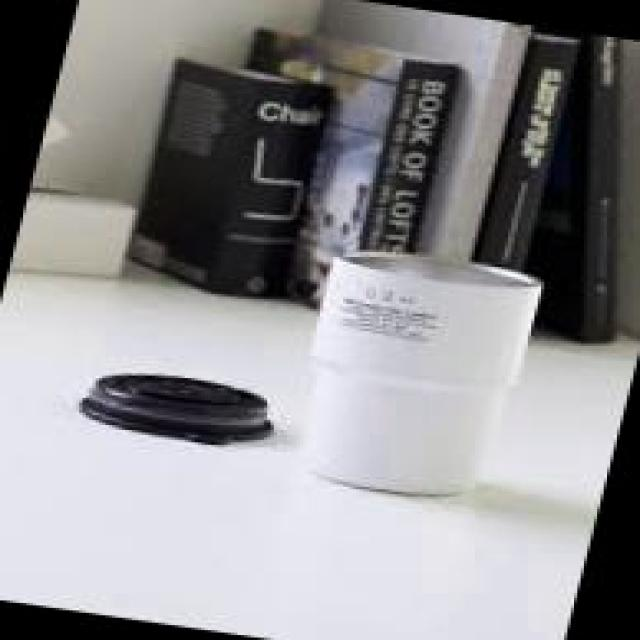bottle: (277, 242, 544, 509)
